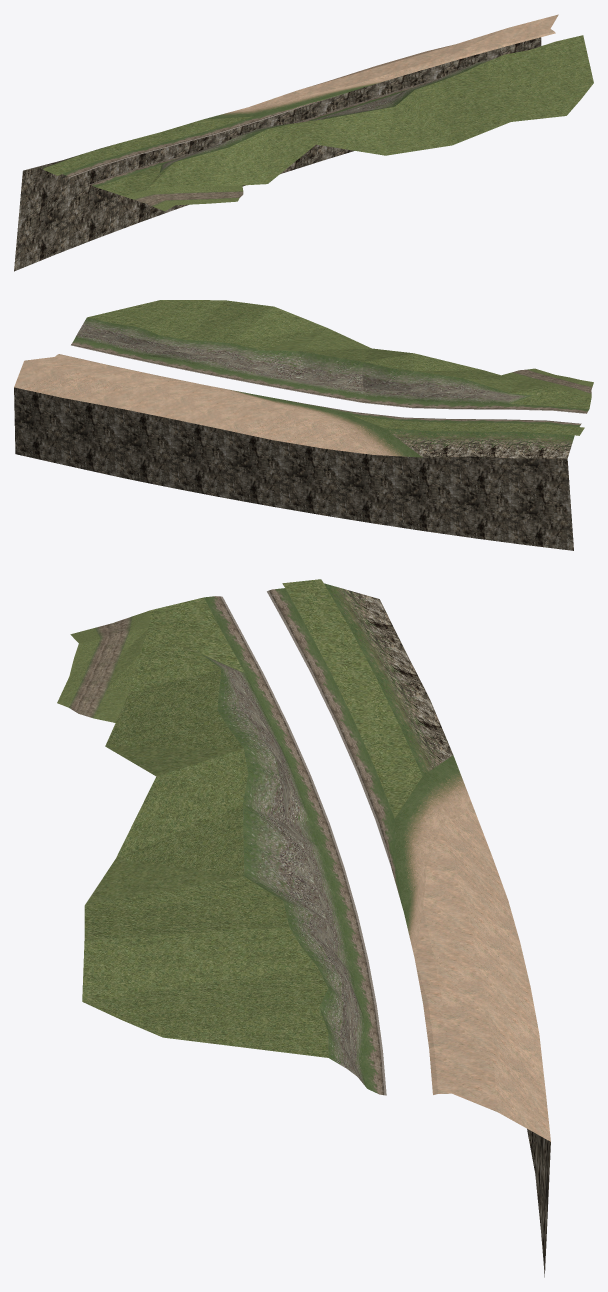
The model's file is ce_ground07.obj.
The picture shows the model from 3 angles, top to bottom: view 1: azimuth 30°, elevation 25°; view 2: azimuth 150°, elevation 25°; view 3: azimuth 270°, elevation 25°; orthographic projection. The views are drawn at different scales.
Visible parts, largest first — view 1: CE_ground07; view 2: CE_ground07; view 3: CE_ground07.
Part boxes in pixels (bbox=[...]): CE_ground07: bbox=[14, 14, 593, 271]; CE_ground07: bbox=[14, 300, 593, 550]; CE_ground07: bbox=[57, 579, 550, 1277].
Bounding box in the file's own units: 312 × 61.04 × 128.
